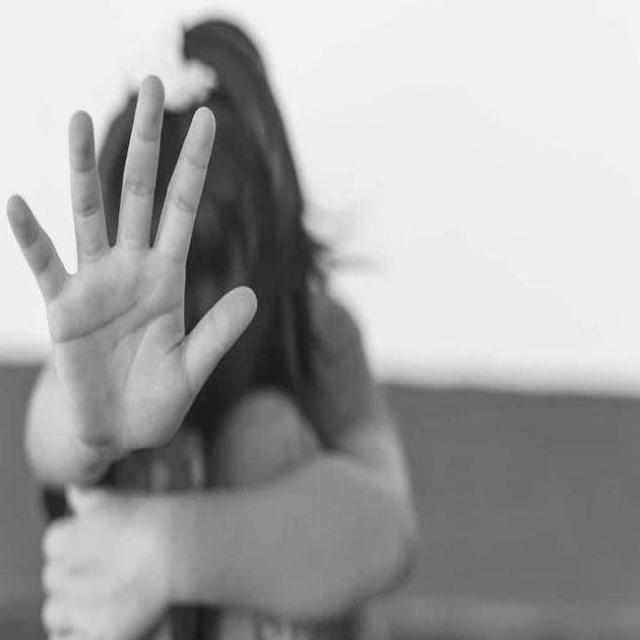stop: (2, 69, 263, 457)
